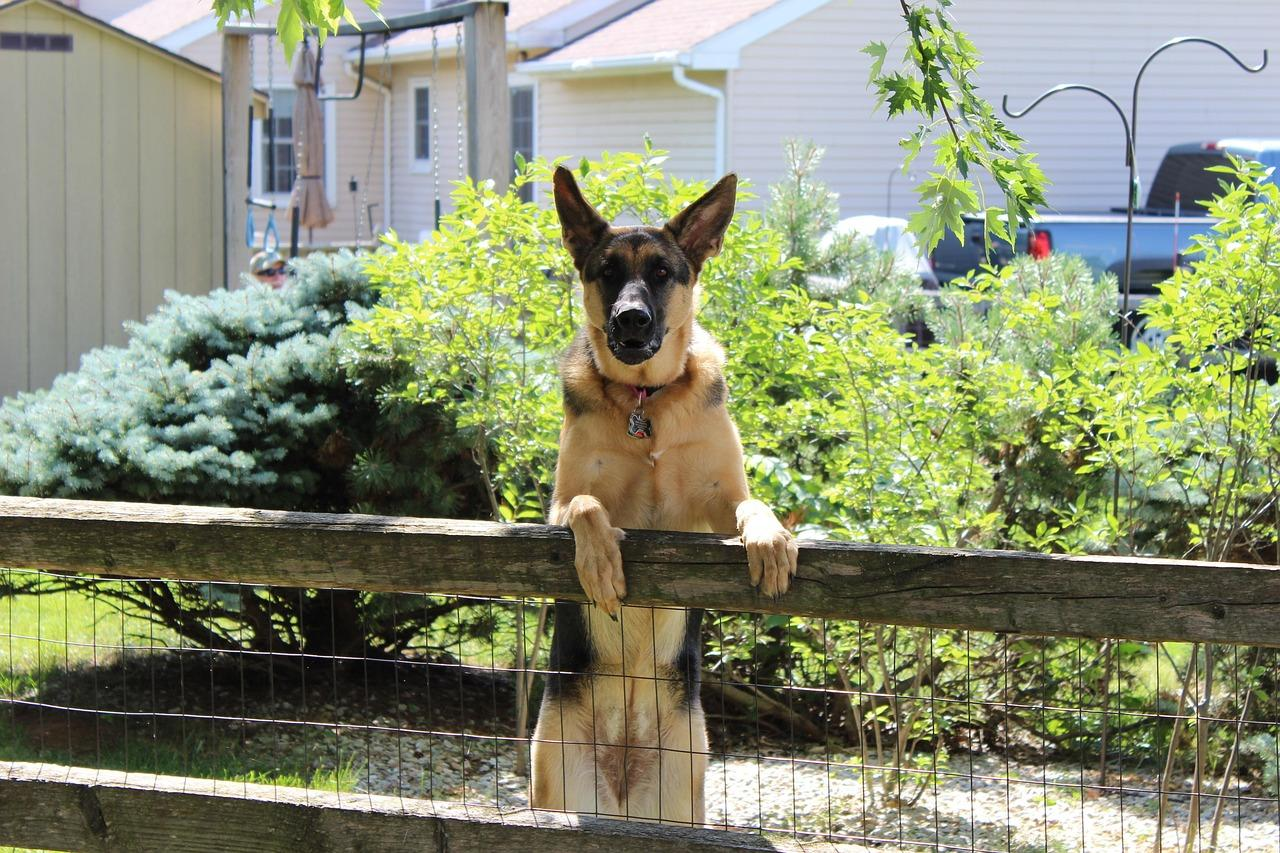german_shepherd: (531, 182, 738, 386)
